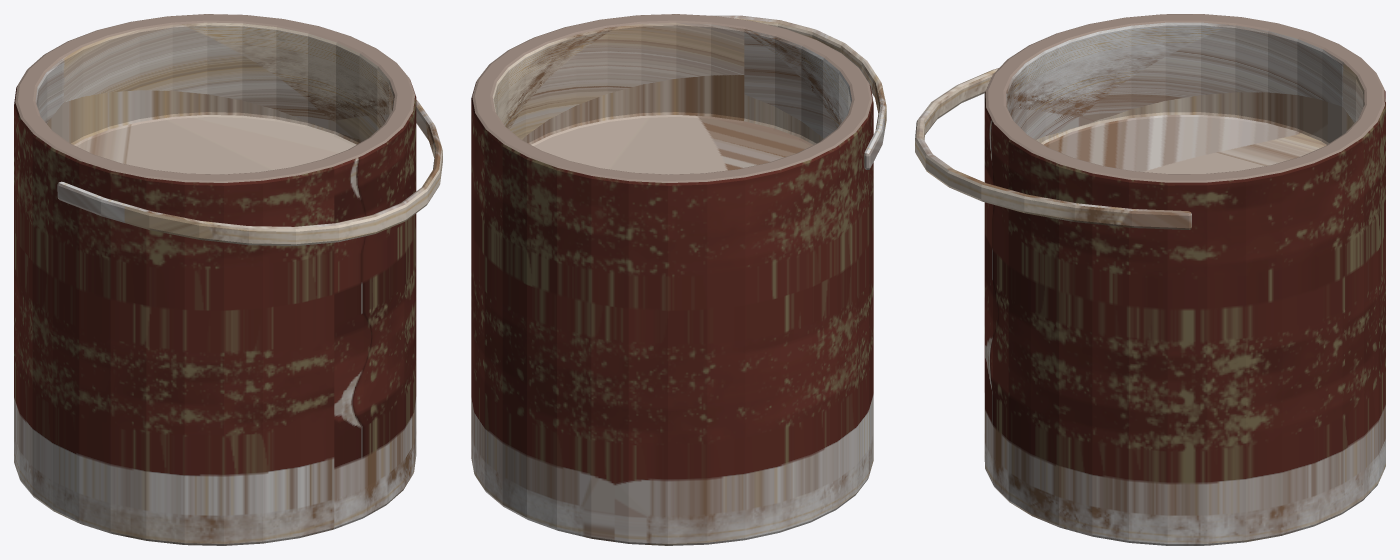
The model's file is pot_3.fbx.
3 views of the same model, side by side, from view 1: azimuth 30°, elevation 25°; view 2: azimuth 150°, elevation 25°; view 3: azimuth 270°, elevation 25° (orthographic).
Parts seen in each view (by area): view 1: pot 3; view 2: pot 3; view 3: pot 3.
Boxes of the visible parts, box(x1,y1,x2,y2) form: pot 3: box(14, 14, 442, 545); pot 3: box(471, 14, 886, 545); pot 3: box(915, 14, 1385, 545).
Size of the model in its own units: 55.9 by 54.23 by 63.39.
